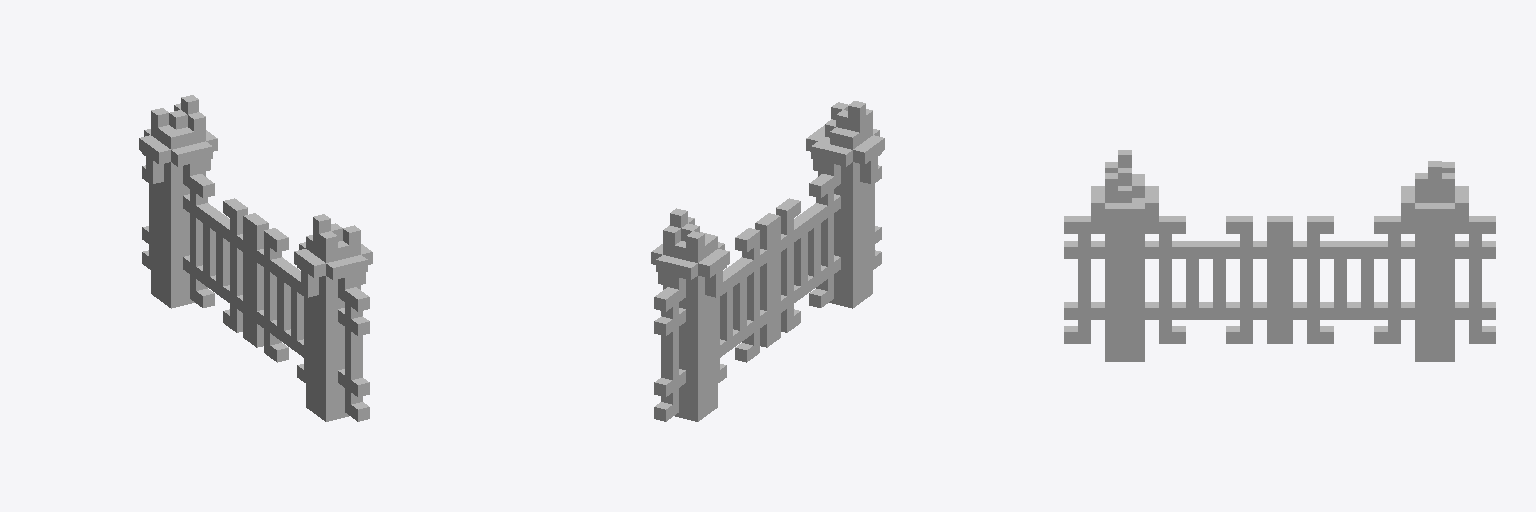
File: villageFenceStraight-0.obj
The picture shows the model from 3 angles: view 1: azimuth 30°, elevation 25°; view 2: azimuth 150°, elevation 25°; view 3: azimuth 270°, elevation 25°; orthographic projection.
Parts seen in each view (by area): view 1: object 1; view 2: object 1; view 3: object 1.
Part boxes in pixels (left/top/right/bottom): object 1: left=139, top=95, right=372, bottom=421; object 1: left=651, top=101, right=884, bottom=421; object 1: left=1064, top=150, right=1495, bottom=361.
Bounding box in the file's own units: 0.5 × 1.6 × 3.2.